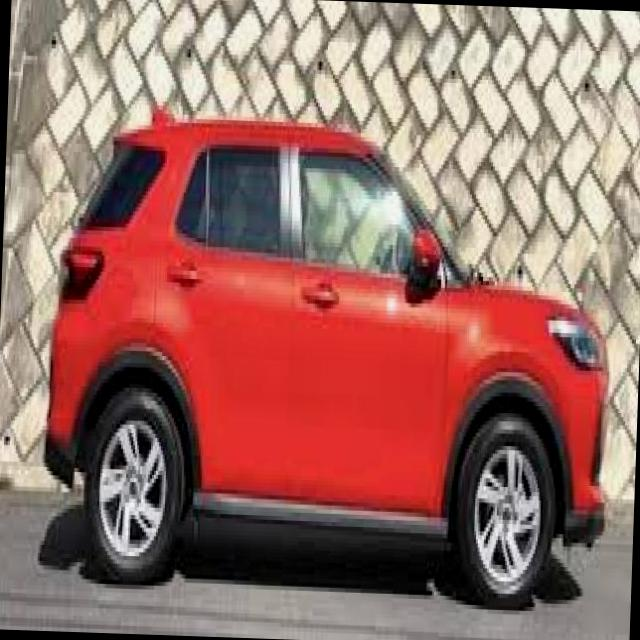PeroduaAtiva: (38, 96, 622, 612)
